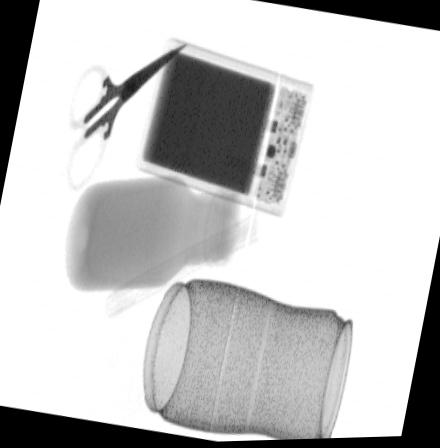Powerbank: (134, 38, 316, 219)
Scissors: (65, 40, 188, 190)
